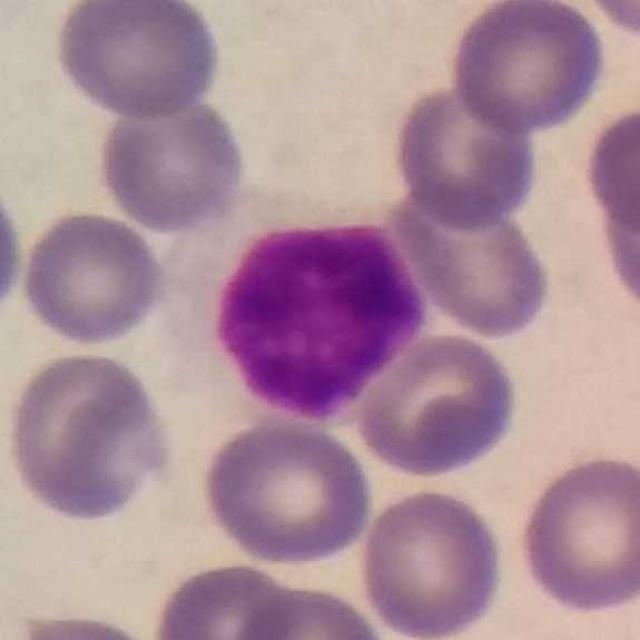Lymphocyte: (169, 213, 432, 423)
RBC: (1, 346, 179, 528), (196, 416, 377, 569), (383, 185, 556, 343), (354, 329, 523, 482), (355, 484, 509, 640), (92, 89, 250, 237), (389, 80, 543, 231), (445, 0, 611, 137), (16, 206, 170, 348), (47, 0, 226, 121), (514, 449, 640, 616), (148, 557, 304, 640), (228, 580, 390, 640), (591, 151, 640, 324), (580, 102, 640, 242), (4, 606, 171, 640), (0, 162, 28, 340), (581, 0, 640, 43)
